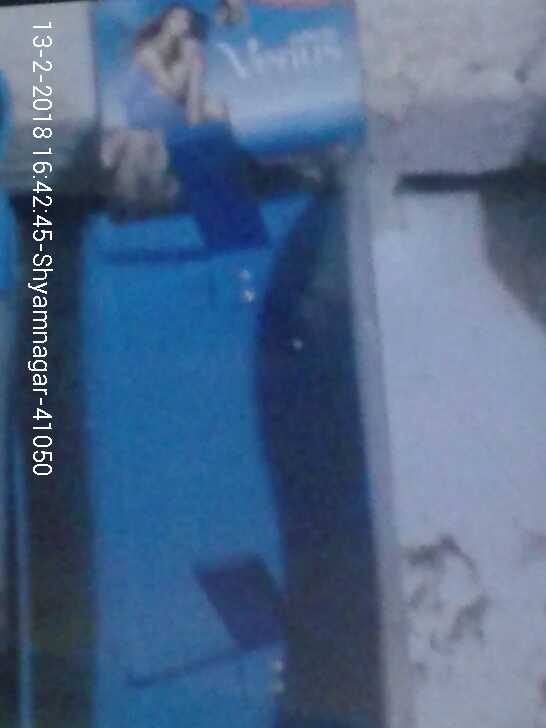reject: (288, 194, 418, 268)
